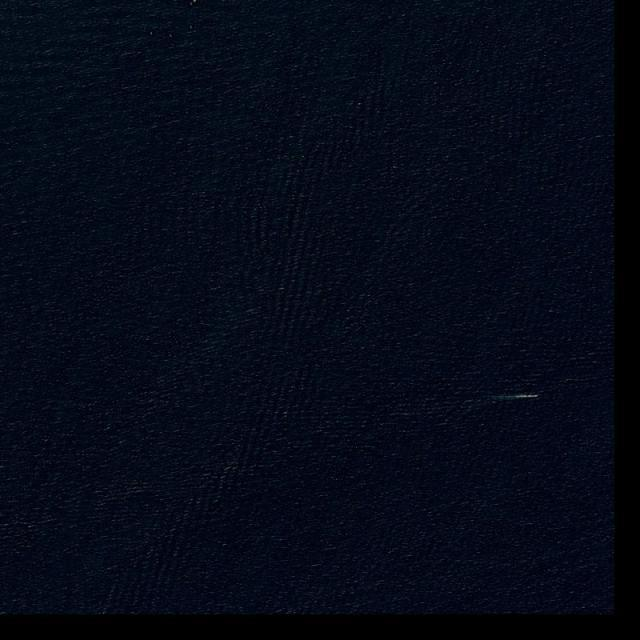ship: (535, 395, 538, 398)
